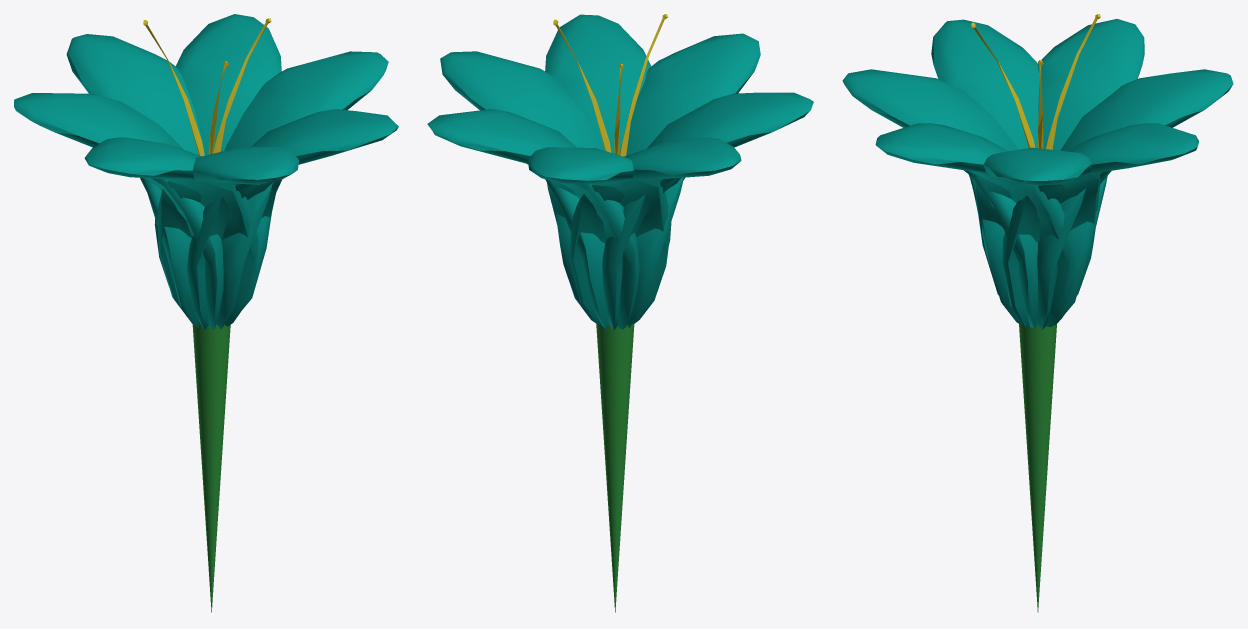
Rendered from Queen's Ribwort.fbx.
3 views of the same model, side by side, from view 1: azimuth 30°, elevation 25°; view 2: azimuth 150°, elevation 25°; view 3: azimuth 270°, elevation 25° (orthographic).
Parts seen in each view (by area): view 1: Queen_s_Ribwort; view 2: Queen_s_Ribwort; view 3: Queen_s_Ribwort.
Part boxes in pixels (x1,y1,x2,y2): Queen_s_Ribwort: (14,14,398,612); Queen_s_Ribwort: (427,14,813,612); Queen_s_Ribwort: (842,14,1233,612).
Size of the model in its own units: 339 by 570 by 346.
1 material, 1 textured.
